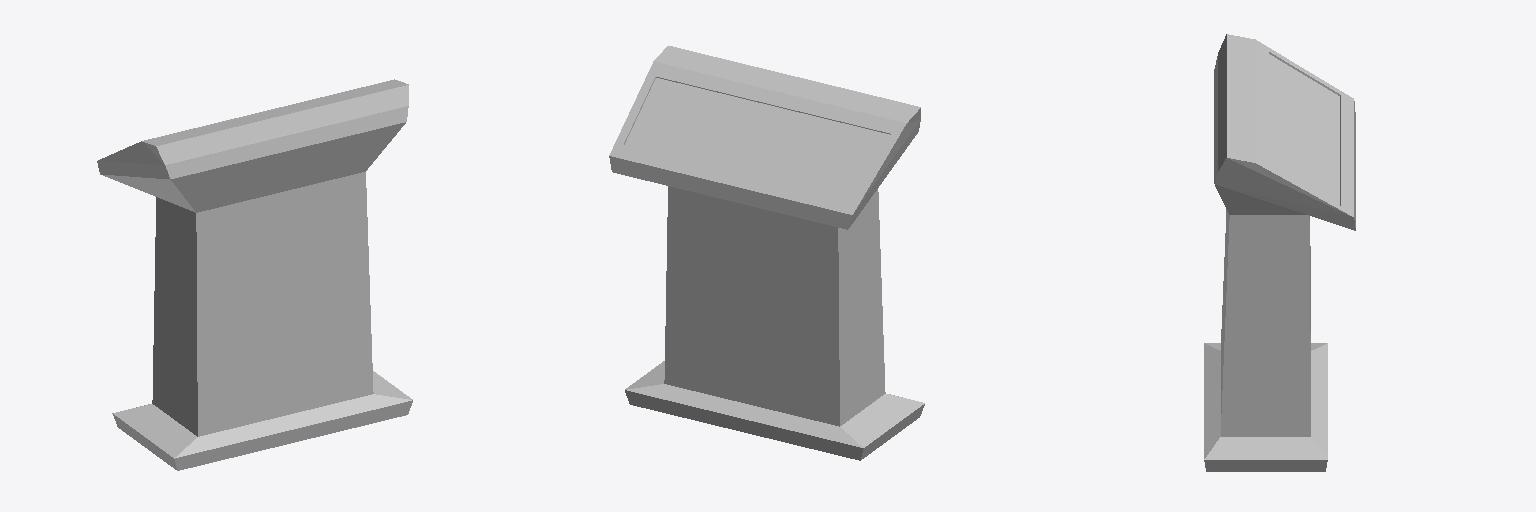
The model's file is station.obj.
3 renders of one model, left to right at view 1: azimuth 30°, elevation 25°; view 2: azimuth 150°, elevation 25°; view 3: azimuth 270°, elevation 25°, orthographic.
Visible parts, largest first — view 1: Cube; view 2: Cube; view 3: Cube.
Part boxes in pixels (left/top/right/bottom): Cube: left=97, top=79, right=412, bottom=470; Cube: left=609, top=46, right=924, bottom=460; Cube: left=1204, top=34, right=1355, bottom=471.
Bounding box in the file's own units: 1.18 × 1.43 × 0.6127.